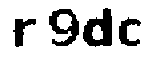9: (45, 6, 80, 49)
c: (118, 14, 145, 48)
d: (83, 6, 115, 52)
r: (11, 14, 43, 52)
